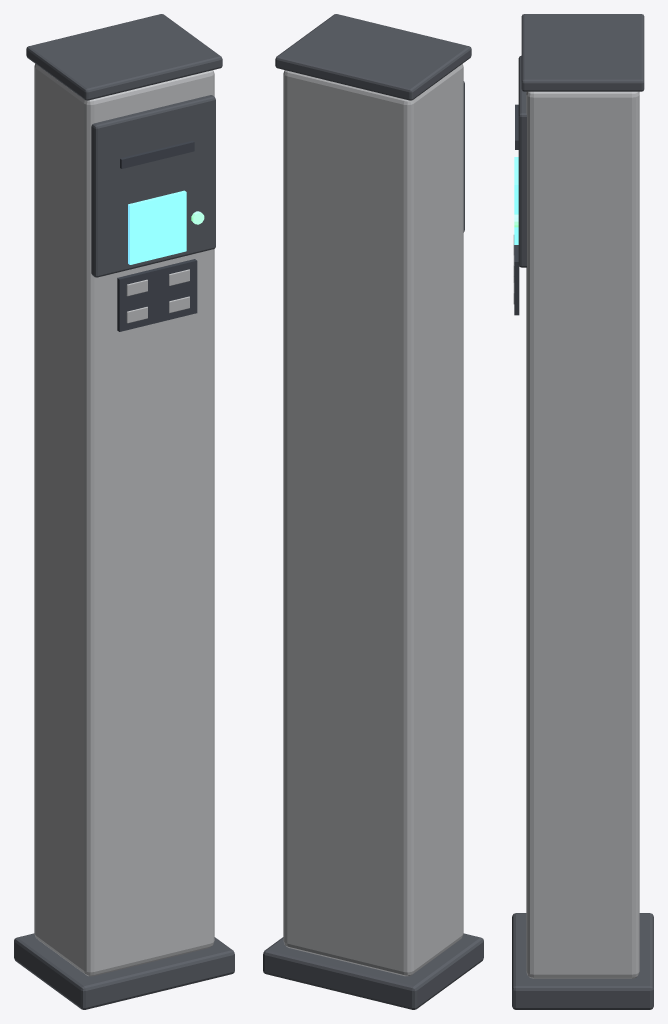
File: access_pillar.glb
The picture shows the model from 3 angles, left to right: view 1: azimuth 30°, elevation 25°; view 2: azimuth 150°, elevation 25°; view 3: azimuth 270°, elevation 25°; orthographic projection.
Visible parts, largest first — view 1: AccessPillar; view 2: AccessPillar; view 3: AccessPillar.
Part boxes in pixels (<box>): AccessPillar: <box>14,14,234,1009</box>; AccessPillar: <box>263,14,483,1009</box>; AccessPillar: <box>512,14,653,1009</box>.
Bounding box in the file's own units: 0.228 × 1.3 × 0.18.
